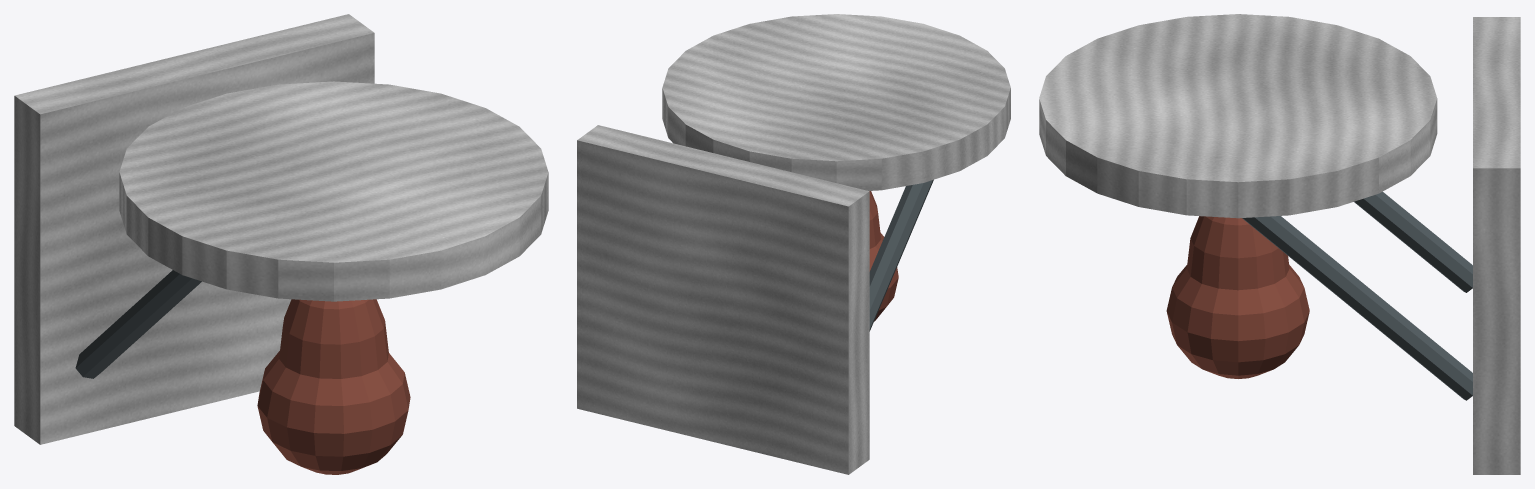
Rendered from speed_bag.glb.
The picture shows the model from 3 angles, left to right: view 1: azimuth 30°, elevation 25°; view 2: azimuth 150°, elevation 25°; view 3: azimuth 270°, elevation 25°; orthographic projection. The views are drawn at different scales.
Visible parts, largest first — view 1: speed_bag_WoodLight, speed_bag_Wood, speed_bag_Leather, speed_bag_Steel; view 2: speed_bag_Wood, speed_bag_WoodLight, speed_bag_Steel, speed_bag_Leather; view 3: speed_bag_WoodLight, speed_bag_Wood, speed_bag_Leather, speed_bag_Steel.
Part boxes in pixels (box(x1,y1,x2,y2)): speed_bag_WoodLight: box(119, 81, 548, 301); speed_bag_Wood: box(14, 14, 374, 444); speed_bag_Leather: box(257, 299, 410, 474); speed_bag_Steel: box(75, 270, 201, 378); speed_bag_Wood: box(577, 125, 869, 474); speed_bag_WoodLight: box(662, 14, 1010, 190); speed_bag_Steel: box(869, 179, 933, 331); speed_bag_Leather: box(869, 191, 898, 321); speed_bag_WoodLight: box(1039, 14, 1437, 218); speed_bag_Wood: box(1473, 17, 1520, 474); speed_bag_Leather: box(1166, 216, 1309, 378); speed_bag_Steel: box(1242, 191, 1472, 400).
Bounding box in the file's own units: 1 × 0.85 × 1.21.
5 materials, 2 textured.
